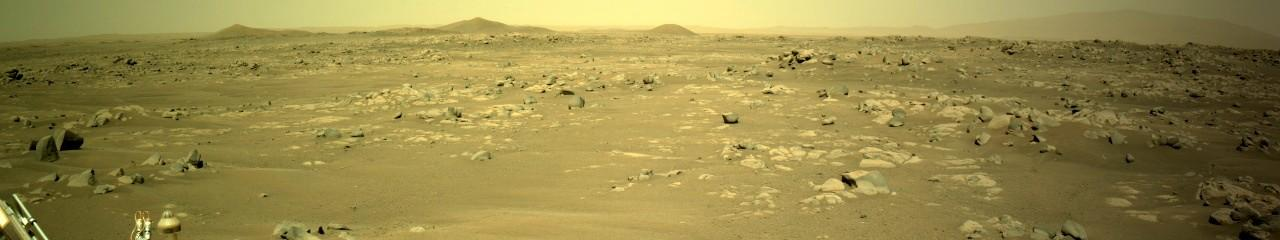bedrock: (20, 35, 1261, 102), (686, 97, 1274, 232), (329, 69, 542, 159), (174, 117, 215, 124), (181, 155, 213, 158), (1277, 204, 1278, 212)
sand: (374, 227, 568, 235), (598, 235, 765, 239)
soil: (1, 69, 760, 238), (977, 171, 1277, 237), (703, 200, 969, 237), (1262, 79, 1279, 155), (643, 186, 658, 188), (1275, 184, 1276, 195)
